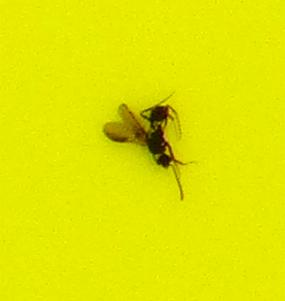Hymenoptera: (100, 100, 185, 201)
